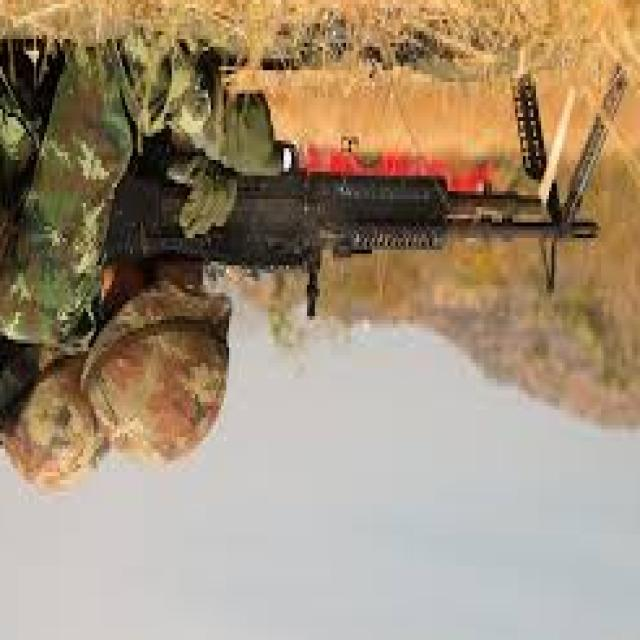gun: (23, 10, 637, 344)
